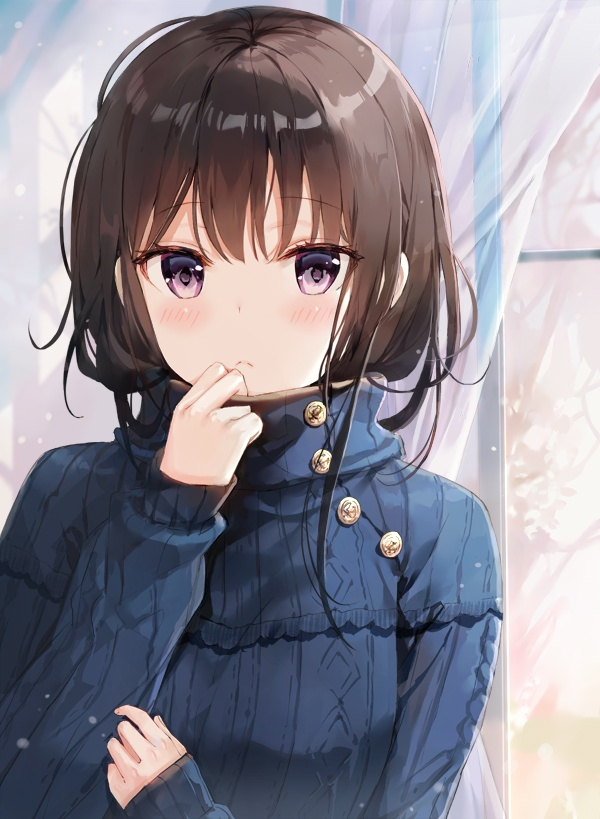纸片人正脸: (56, 1, 458, 427)
